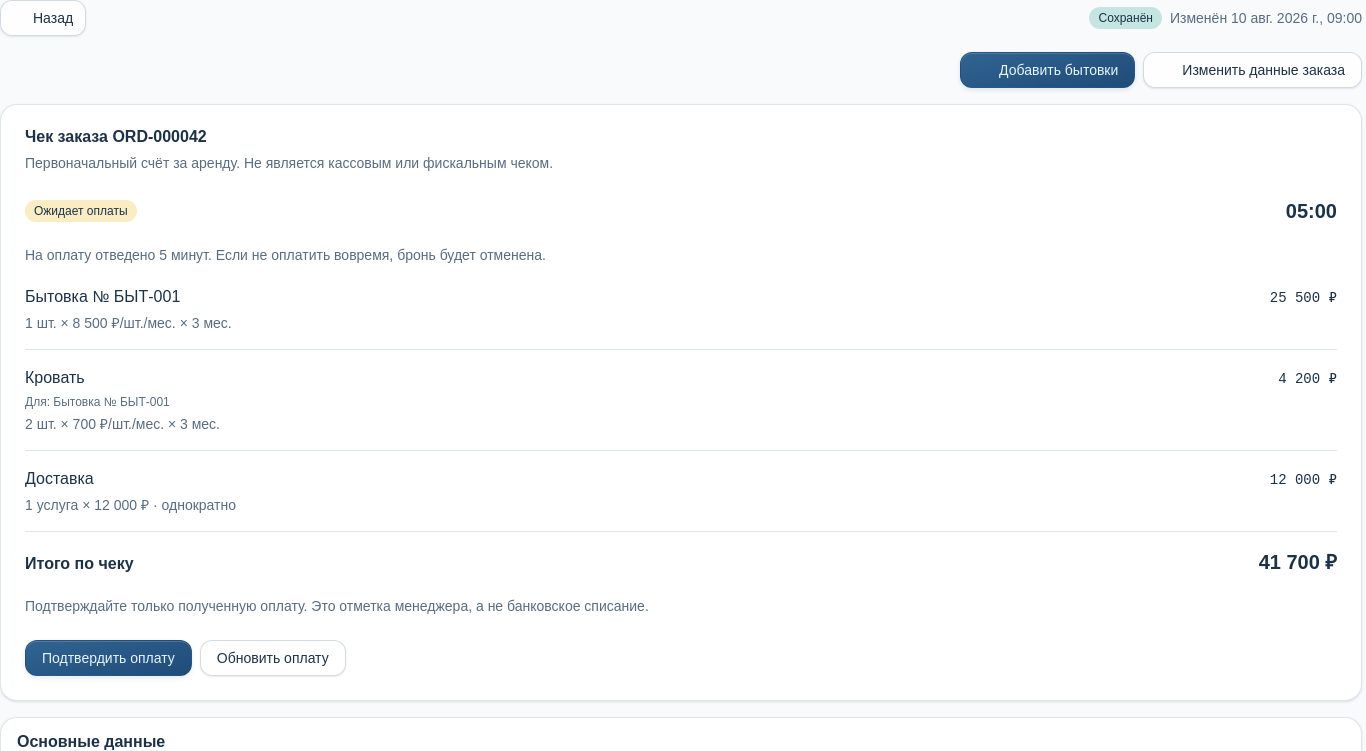
Test case: OrderDetailPage cabin entry › uses the server payment fence and permission for manager confirmation, not the displayed order version
Check: the text "Чек заказа ORD-000042" is shown, box x1=25 y1=128 x2=207 y2=145
Check: the text "Ожидает оплаты" is shown, box x1=25 y1=200 x2=137 y2=222
Click the button "Подтвердить оплату" at (108, 658), box x1=25 y1=640 x2=192 y2=676
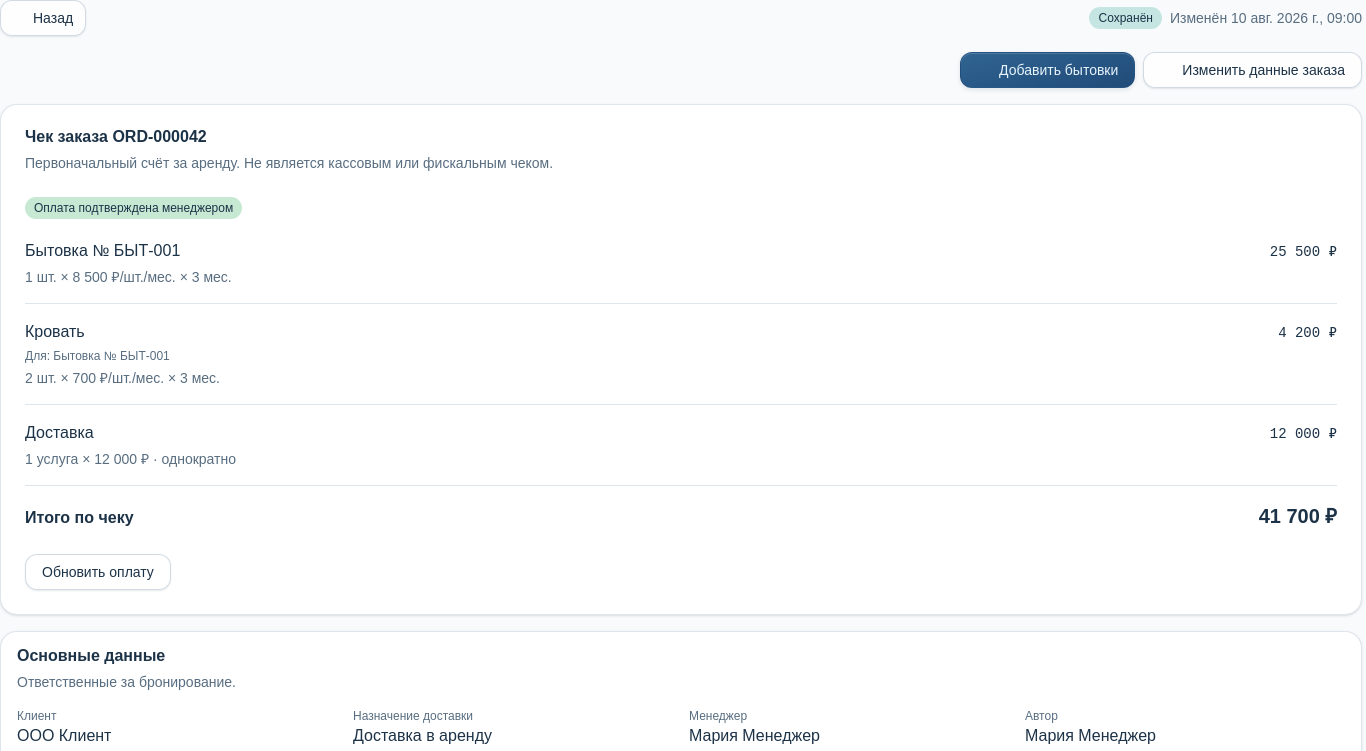
Check: the text "Оплата подтверждена менеджером" is shown, box x1=25 y1=197 x2=242 y2=219
Check: the button "Подтвердить оплату" is gone
